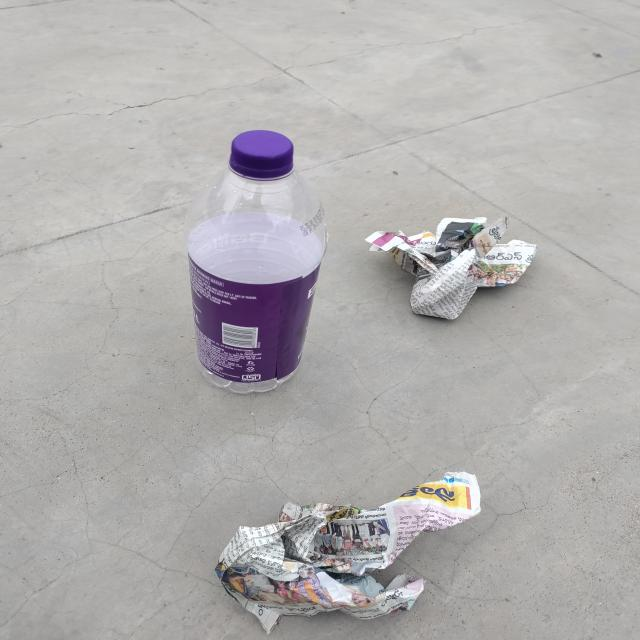dry: (214, 470, 485, 634), (180, 123, 326, 397), (365, 214, 539, 319)
